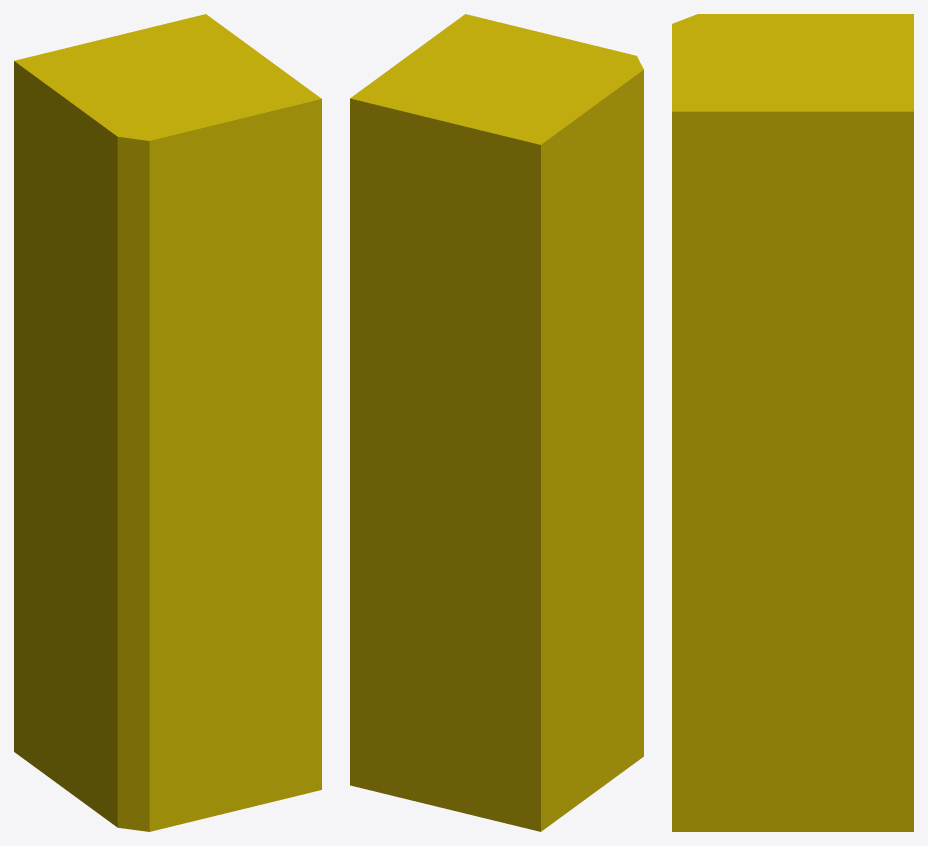
File: simple_example_hole_part_7.obj
3 views of the same model, side by side, from view 1: azimuth 30°, elevation 25°; view 2: azimuth 150°, elevation 25°; view 3: azimuth 270°, elevation 25° (orthographic). The views are drawn at different scales.
Bounding box in the file's own units: 21.16 × 72.79 × 22.15.
